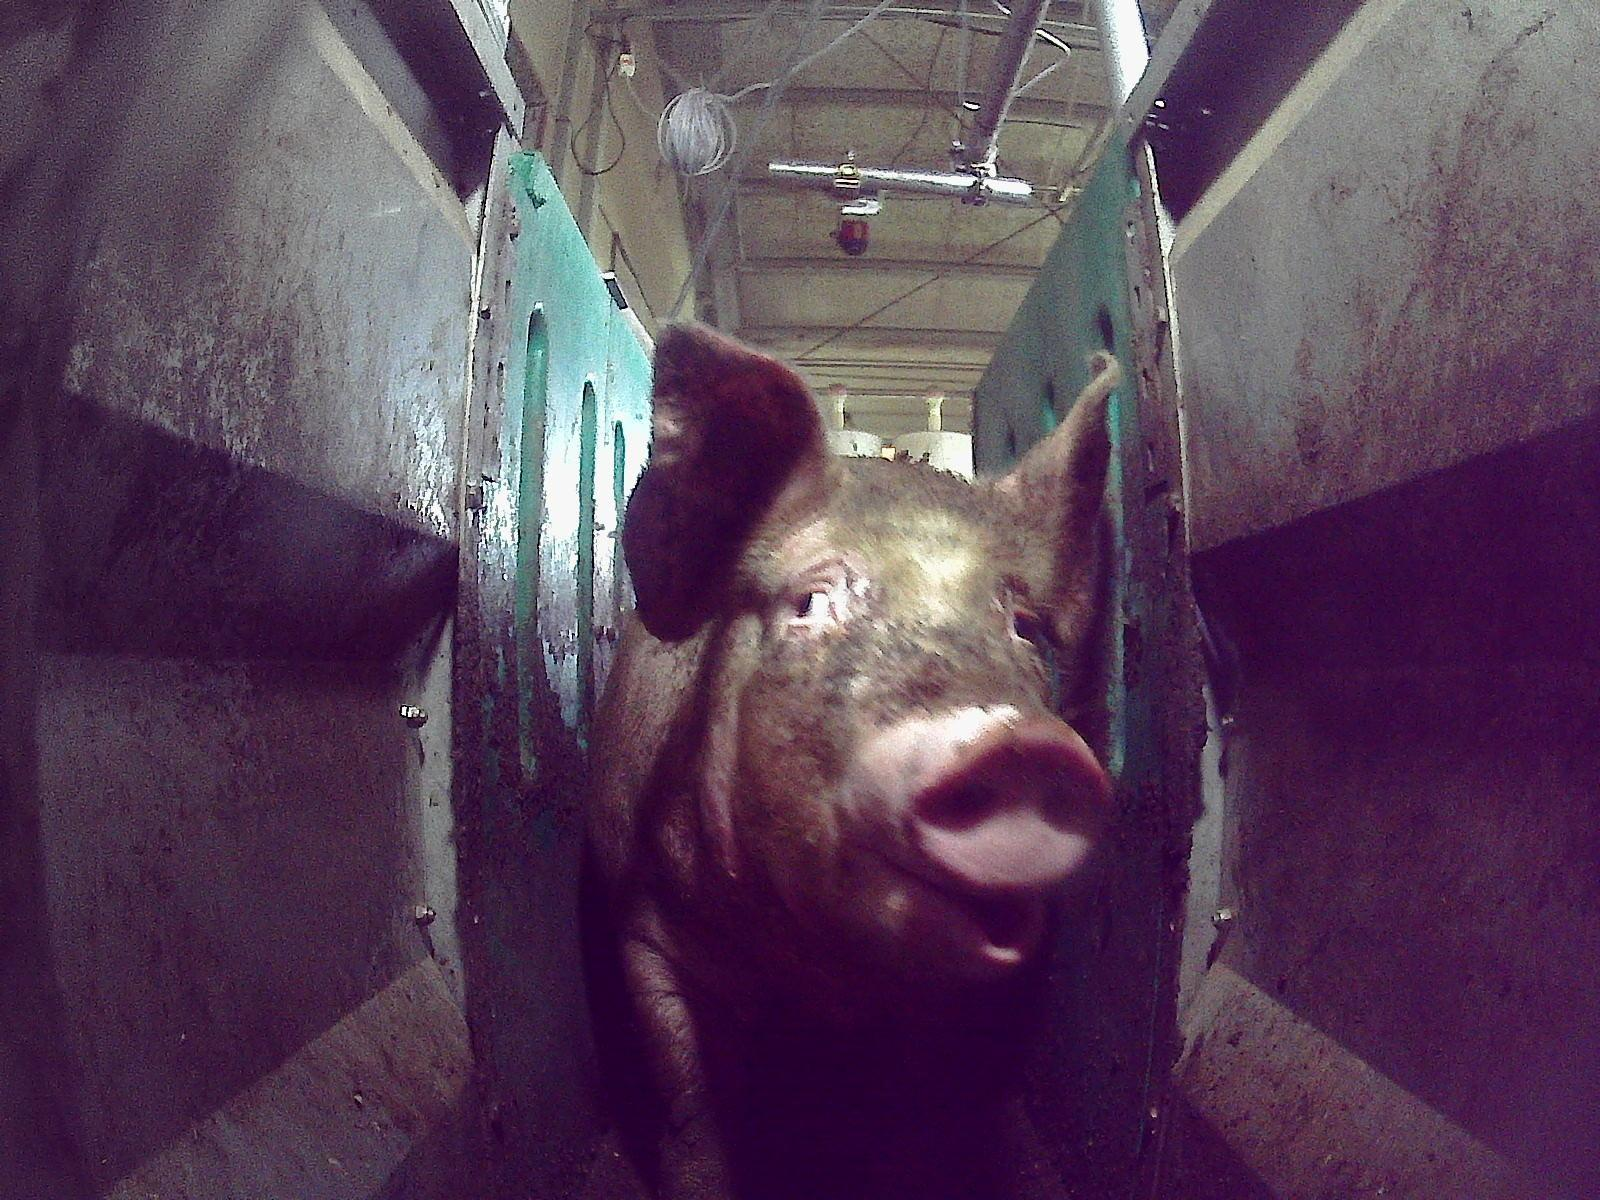Face: (725, 455, 1113, 990)
